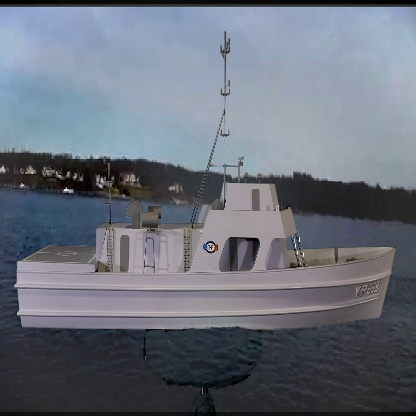YP689: (14, 25, 397, 335)
